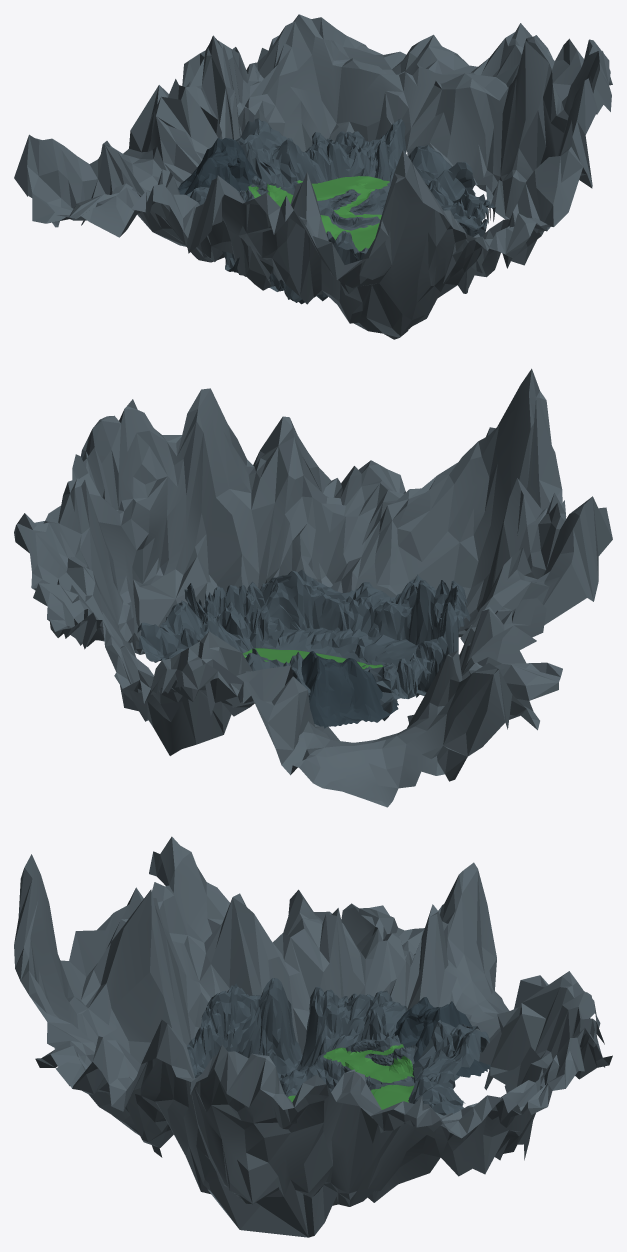
File: Enviroment_Landscape (1).fbx
3 renders of one model, top to bottom at view 1: azimuth 30°, elevation 25°; view 2: azimuth 150°, elevation 25°; view 3: azimuth 270°, elevation 25°, orthographic. The views are drawn at different scales.
Visible parts, largest first — view 1: Mountain_Range_2, Mountain_Range, Landscape, Redued_Mountain; view 2: Mountain_Range_2, Mountain_Range, Redued_Mountain, Landscape; view 3: Mountain_Range_2, Mountain_Range, Landscape, Redued_Mountain.
Boxes of the visible parts, x1,y1,x2,y2 form: Mountain_Range_2: (14, 14, 612, 339); Mountain_Range: (187, 118, 495, 304); Landscape: (238, 175, 390, 291); Redued_Mountain: (178, 138, 260, 194); Mountain_Range_2: (14, 368, 612, 807); Mountain_Range: (137, 569, 470, 720); Redued_Mountain: (296, 651, 398, 728); Landscape: (243, 628, 425, 695); Mountain_Range_2: (14, 836, 612, 1237); Mountain_Range: (187, 978, 489, 1115); Landscape: (279, 1035, 417, 1109); Redued_Mountain: (394, 997, 490, 1077).
Bounding box in the file's own units: 112734 × 51509 × 107218.
